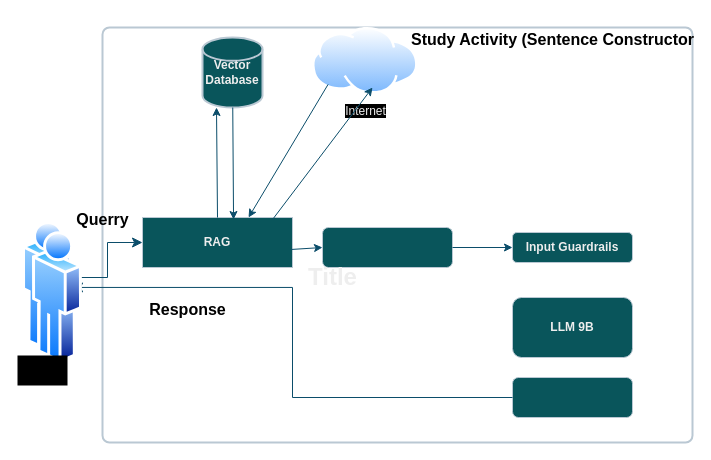
The diagram is 711 pixels wide and 460 high, and some of its shapes have lost their labels. Here are the shapes that lost their labels. From the top down, the centre of each, then its label:
At (x=387, y=247): "Prompt Cache".
At (x=42, y=370): "Users".
At (x=572, y=397): "Output Guardrails".
